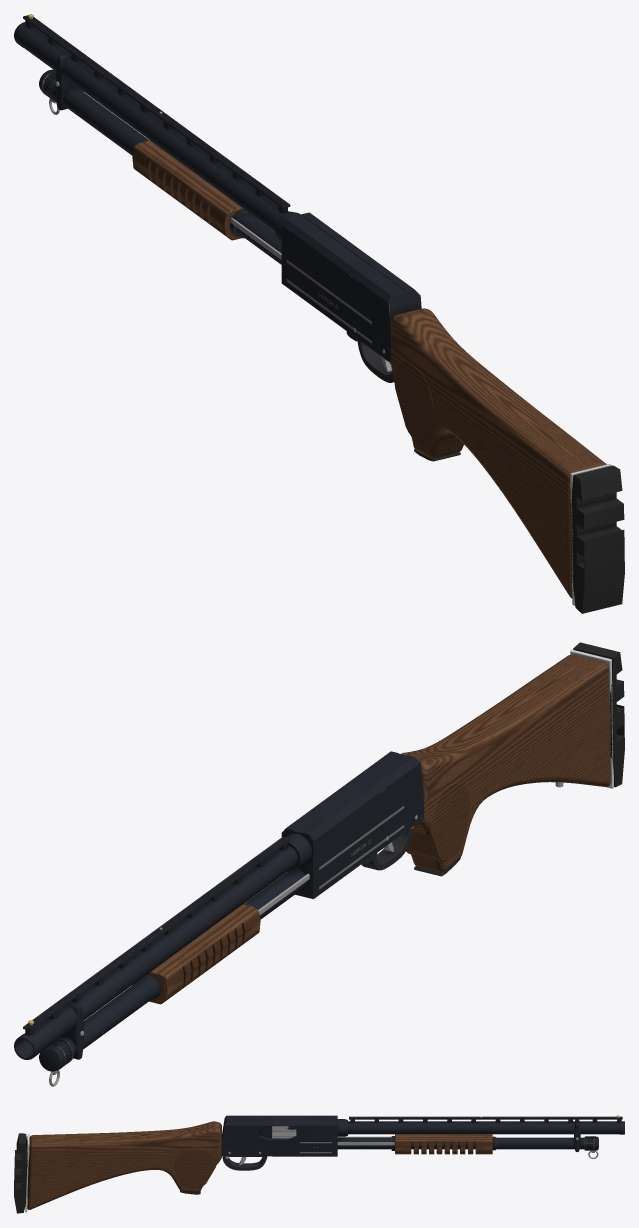
Rendered from shotgun.glb.
3 views of the same model, one above another, from view 1: azimuth 30°, elevation 25°; view 2: azimuth 150°, elevation 25°; view 3: azimuth 270°, elevation 25° (orthographic). The views are drawn at different scales.
Visible parts, largest first — view 1: body, pump; view 2: body, pump; view 3: body, pump.
Part boxes in pixels (bbox=[...]): body: bbox=[14, 14, 624, 613]; pump: bbox=[132, 140, 281, 259]; body: bbox=[14, 642, 624, 1086]; pump: bbox=[133, 872, 309, 1004]; body: bbox=[14, 1115, 624, 1213]; pump: bbox=[272, 1126, 496, 1154].
Bounding box in the file's own units: 0.0441 × 0.1783 × 1.06.
Materials: 11 (11 with a texture image).
